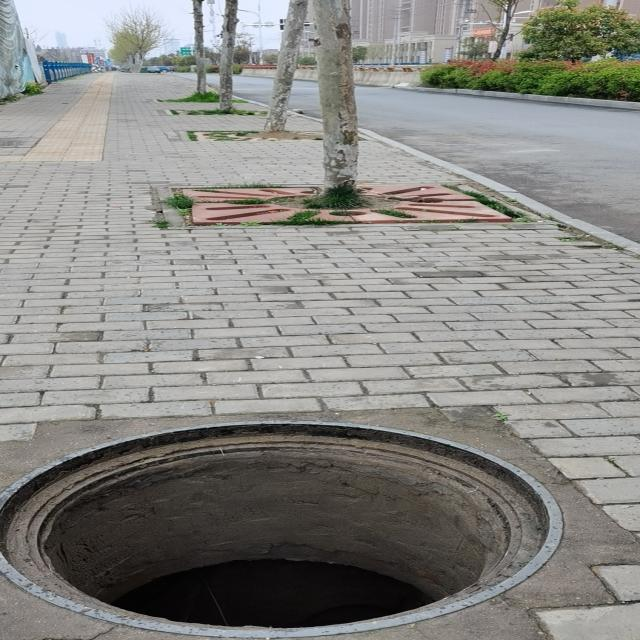Faulty: (0, 419, 565, 638)
